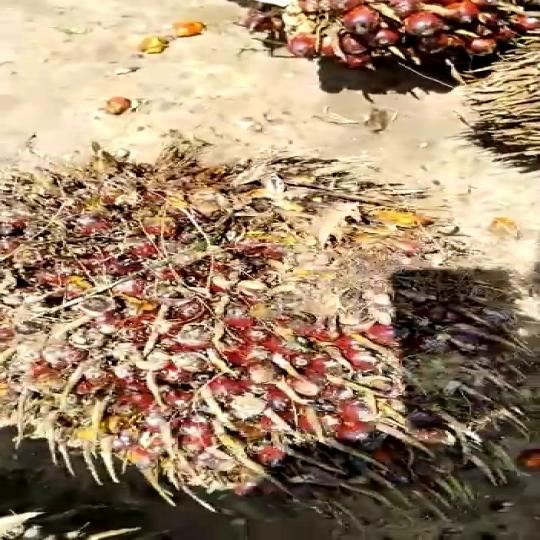masak: (0, 144, 540, 528)
